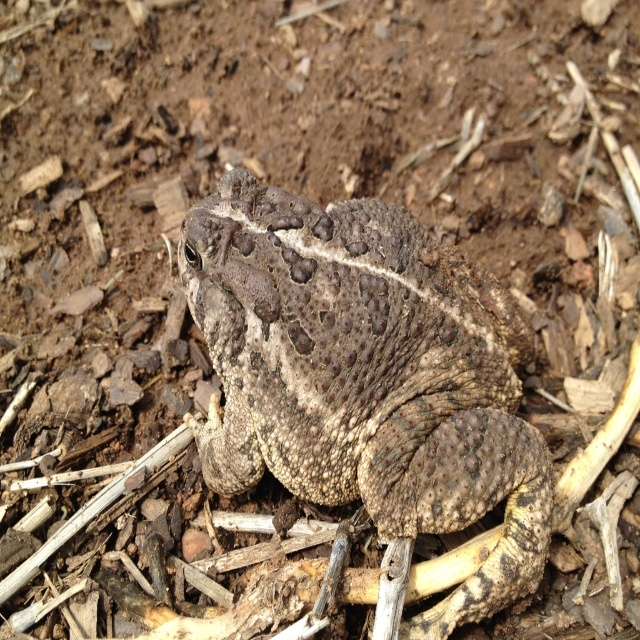Frog: (178, 169, 556, 639)
